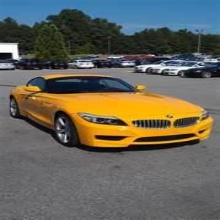no damage: (9, 73, 214, 153)
